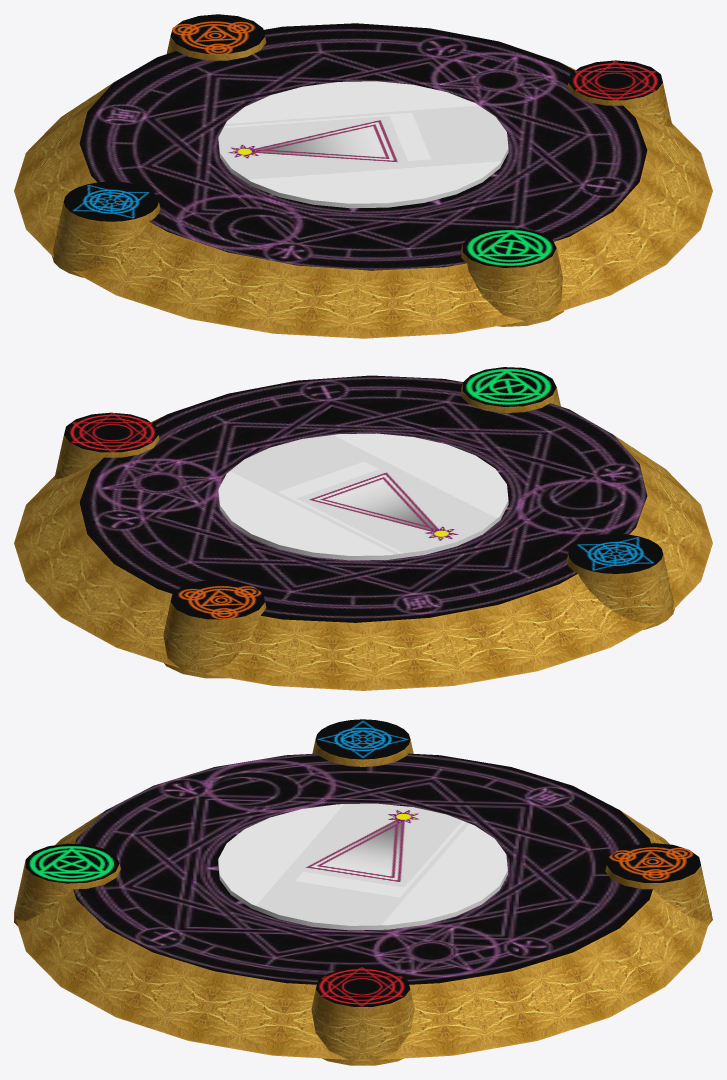
File: Demon Spinner.dae
3 views of the same model, one above another, from view 1: azimuth 30°, elevation 25°; view 2: azimuth 150°, elevation 25°; view 3: azimuth 270°, elevation 25° (orthographic).
Parts seen in each view (by area): view 1: prim5, prim4, prim0, prim1, prim3, prim2; view 2: prim5, prim4, prim2, prim1, prim3, prim0; view 3: prim5, prim4, prim3, prim2, prim0, prim1.
Boxes of the visible parts, left/top/right/bottom form: prim5: left=14, top=23, right=712, bottom=338; prim4: left=218, top=81, right=508, bottom=208; prim0: left=461, top=228, right=563, bottom=326; prim1: left=52, top=181, right=160, bottom=277; prim3: left=567, top=60, right=672, bottom=127; prim2: left=166, top=14, right=266, bottom=60; prim5: left=14, top=375, right=712, bottom=690; prim4: left=218, top=433, right=508, bottom=560; prim2: left=163, top=579, right=266, bottom=678; prim1: left=566, top=533, right=674, bottom=629; prim3: left=54, top=412, right=159, bottom=479; prim0: left=461, top=367, right=560, bottom=412; prim5: left=14, top=753, right=711, bottom=1060; prim4: left=218, top=803, right=507, bottom=930; prim3: left=311, top=967, right=414, bottom=1065; prim2: left=605, top=843, right=712, bottom=925; prim0: left=14, top=843, right=120, bottom=925; prim1: left=312, top=719, right=413, bottom=766.
Bounding box in the file's own units: 8.82 × 8.82 × 0.7771.
Materials: 9 (7 with a texture image).
